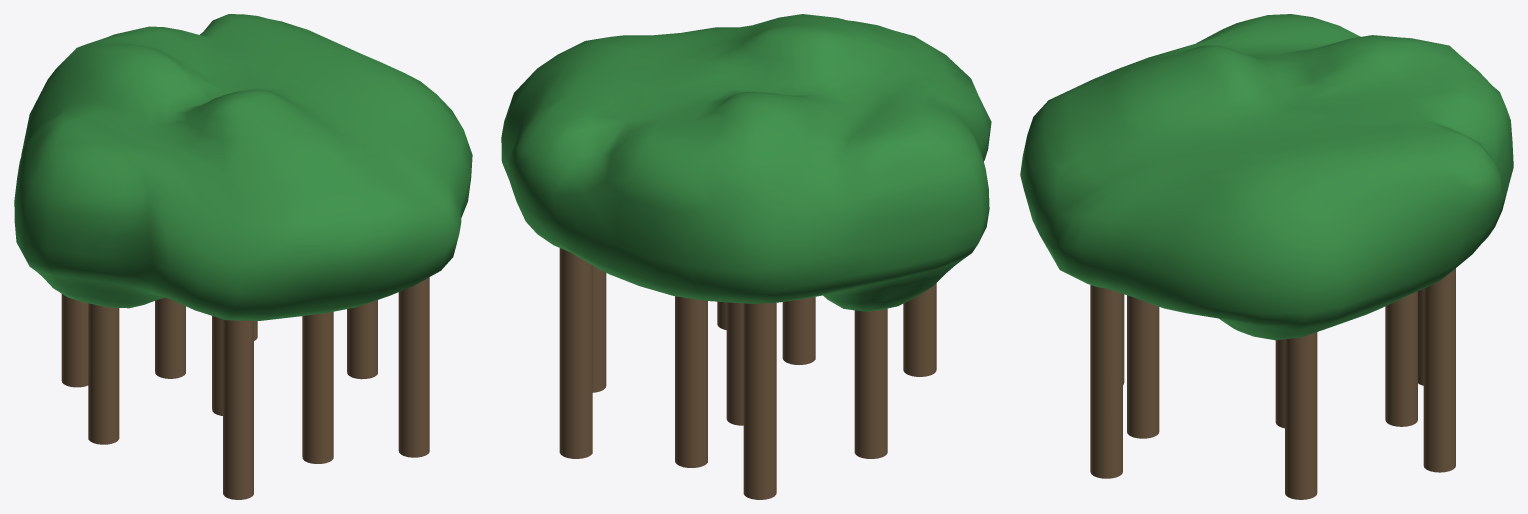
Rendered from Bosque_2.fbx.
3 renders of one model, left to right at view 1: azimuth 30°, elevation 25°; view 2: azimuth 150°, elevation 25°; view 3: azimuth 270°, elevation 25°, orthographic. The views are drawn at different scales.
Parts seen in each view (by area): view 1: Bosque2; view 2: Bosque2; view 3: Bosque2.
Boxes of the visible parts, x1,y1,x2,y2 form: Bosque2: (14, 14, 472, 499); Bosque2: (501, 14, 991, 499); Bosque2: (1020, 14, 1513, 499).
Size of the model in its own units: 111 by 84.37 by 105.
